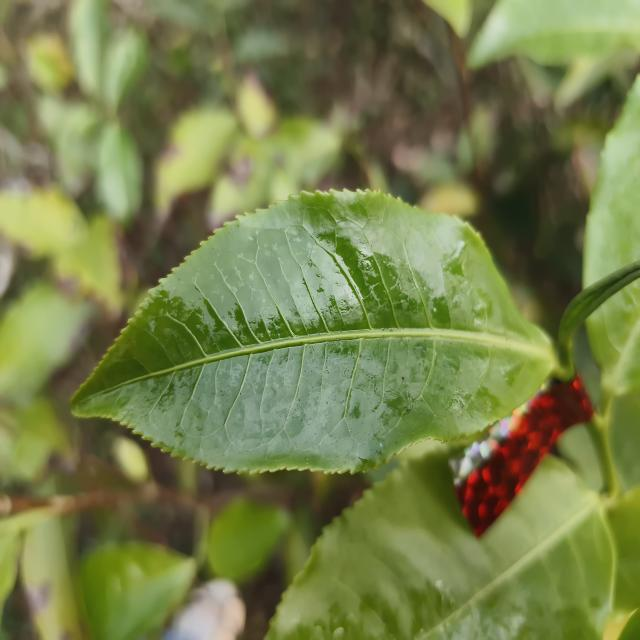Leaf: (72, 191, 555, 472), (265, 451, 614, 640), (208, 117, 342, 228), (583, 78, 640, 285), (80, 541, 196, 640), (469, 0, 640, 67), (0, 282, 91, 402), (155, 105, 237, 219), (21, 517, 82, 640), (208, 497, 289, 584), (0, 187, 86, 257), (589, 283, 640, 394), (96, 121, 142, 223), (102, 29, 147, 110), (69, 0, 105, 97)
